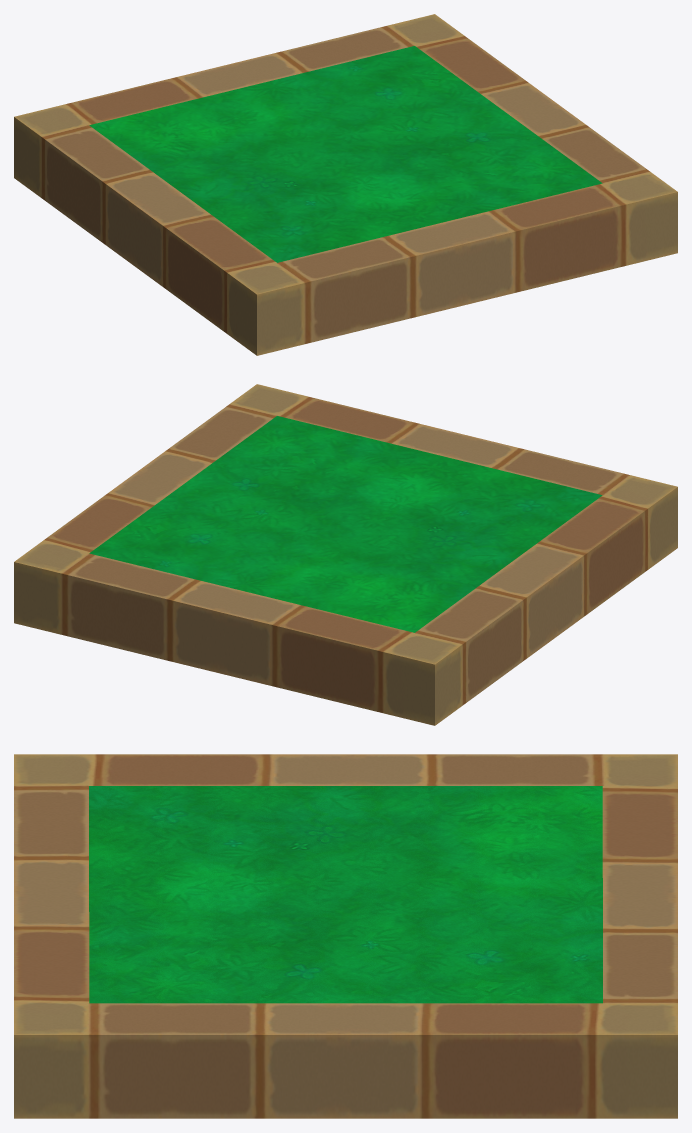
File: Plant01_d03.FBX
3 renders of one model, top to bottom at view 1: azimuth 30°, elevation 25°; view 2: azimuth 150°, elevation 25°; view 3: azimuth 270°, elevation 25°, orthographic. The views are drawn at different scales.
Visible parts, largest first — view 1: Plant01_d03; view 2: Plant01_d03; view 3: Plant01_d03.
Boxes of the visible parts, <box> form: Plant01_d03: <box>14,14,677,355</box>; Plant01_d03: <box>14,384,677,725</box>; Plant01_d03: <box>14,754,677,1118</box>.
Size of the model in its own units: 339 by 47.09 by 339.
2 materials, 2 textured.
